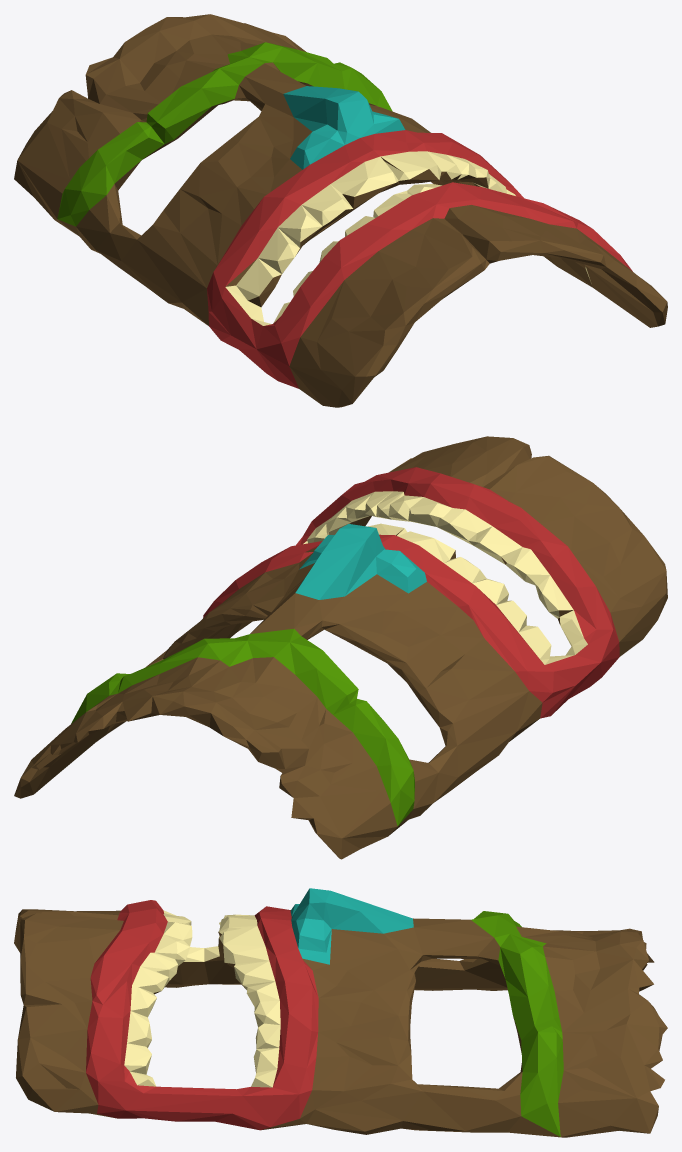
Rendered from TikiMask_WorldItem.fbx.
The picture shows the model from 3 angles, top to bottom: view 1: azimuth 30°, elevation 25°; view 2: azimuth 150°, elevation 25°; view 3: azimuth 270°, elevation 25°; orthographic projection. The views are drawn at different scales.
Parts seen in each view (by area): view 1: tiki; view 2: tiki; view 3: tiki.
Part boxes in pixels (x1,y1,x2,y2): tiki: [14, 14, 667, 407]; tiki: [14, 436, 667, 859]; tiki: [14, 888, 667, 1137].
Bounding box in the file's own units: 0.1045 × 0.0538 × 0.1884.
